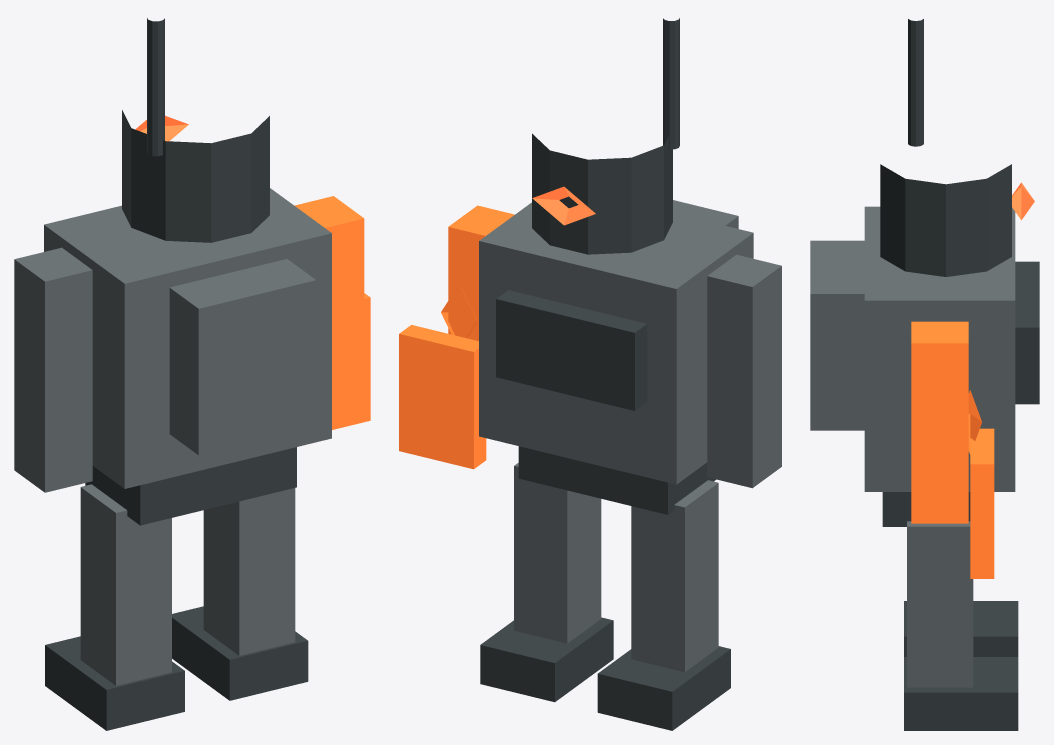
Rendered from scrapper-damaged-m0.glb.
The picture shows the model from 3 angles, left to right: view 1: azimuth 30°, elevation 25°; view 2: azimuth 150°, elevation 25°; view 3: azimuth 270°, elevation 25°; orthographic projection. The views are drawn at different scales.
Parts seen in each view (by area): view 1: Scrapper_Torso, Scrapper_MaintenancePack, Scrapper_LeftArm, Scrapper_LeftLeg, Scrapper_Head, Scrapper_RightLeg, Scrapper_DamagedArm, Scrapper_Hip, Scrapper_LeftFoot, Scrapper_RightFoot, Scrapper_Antenna, Scrapper_LooseForearmPlate; view 2: Scrapper_Torso, Scrapper_LeftArm, Scrapper_LeftLeg, Scrapper_ChestPanel, Scrapper_RightLeg, Scrapper_Head, Scrapper_LooseForearmPlate, Scrapper_LeftFoot, Scrapper_RightFoot, Scrapper_Hip, Scrapper_DamagedArm, Scrapper_Antenna (+2 smaller); view 3: Scrapper_Torso, Scrapper_Head, Scrapper_DamagedArm, Scrapper_RightLeg, Scrapper_MaintenancePack, Scrapper_RightFoot, Scrapper_LooseForearmPlate, Scrapper_ChestPanel, Scrapper_LeftFoot, Scrapper_Antenna, Scrapper_Hip, Scrapper_DamageGlow (+1 smaller).
Part boxes in pixels (x1,y1,x2,y2): Scrapper_Torso: (44, 188, 331, 488); Scrapper_MaintenancePack: (169, 259, 316, 455); Scrapper_LeftArm: (14, 247, 92, 492); Scrapper_LeftLeg: (80, 484, 171, 685); Scrapper_Head: (122, 110, 269, 242); Scrapper_RightLeg: (203, 488, 295, 655); Scrapper_DamagedArm: (294, 196, 364, 419); Scrapper_Hip: (85, 447, 296, 525); Scrapper_LeftFoot: (45, 636, 184, 730); Scrapper_RightFoot: (172, 606, 308, 700); Scrapper_Antenna: (147, 18, 164, 156); Scrapper_LooseForearmPlate: (332, 293, 370, 429); Scrapper_Torso: (479, 202, 753, 484); Scrapper_LeftArm: (707, 254, 781, 488); Scrapper_LeftLeg: (631, 480, 718, 672); Scrapper_ChestPanel: (496, 290, 647, 410); Scrapper_RightLeg: (514, 463, 601, 643); Scrapper_Head: (532, 133, 672, 254); Scrapper_LooseForearmPlate: (399, 325, 486, 469); Scrapper_LeftFoot: (597, 646, 730, 730); Scrapper_RightFoot: (480, 617, 613, 702); Scrapper_Hip: (518, 446, 716, 514); Scrapper_DamagedArm: (448, 205, 514, 340); Scrapper_Antenna: (663, 18, 679, 149); Scrapper_Torso: (864, 206, 1015, 491); Scrapper_Head: (880, 164, 1011, 276); Scrapper_DamagedArm: (911, 321, 968, 523); Scrapper_RightLeg: (907, 521, 973, 687); Scrapper_MaintenancePack: (810, 240, 864, 430); Scrapper_RightFoot: (904, 657, 1018, 730); Scrapper_LooseForearmPlate: (970, 428, 994, 578); Scrapper_ChestPanel: (1015, 261, 1039, 404); Scrapper_LeftFoot: (904, 601, 1018, 656); Scrapper_Antenna: (908, 19, 923, 146); Scrapper_Hip: (882, 492, 970, 526); Scrapper_DamageGlow: (968, 390, 981, 454).
Size of the model in its own units: 1.27 by 2.37 by 0.76.
